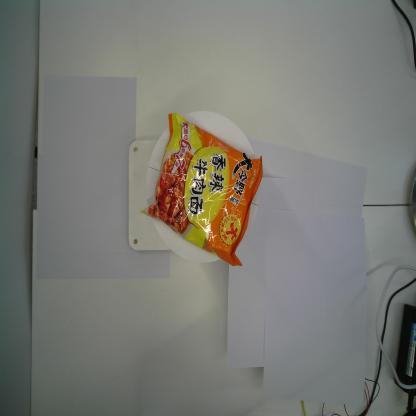Instant Noodles: (136, 110, 264, 269)
